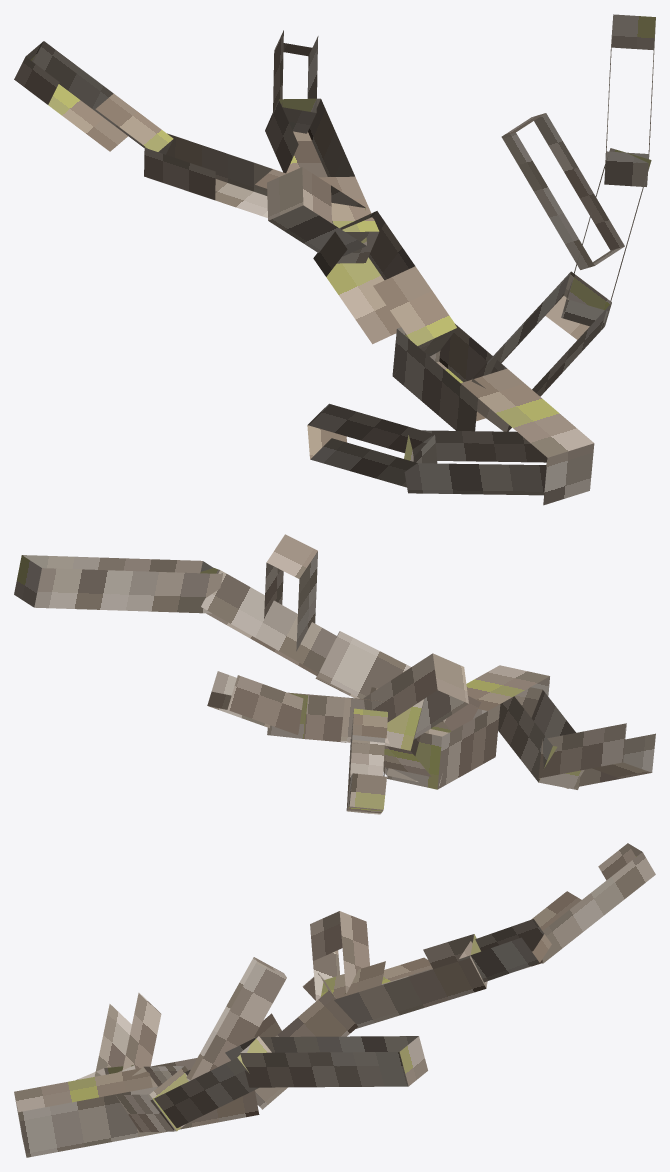
Rendered from ash_twig_branch_up.obj.
The picture shows the model from 3 angles, top to bottom: view 1: azimuth 30°, elevation 25°; view 2: azimuth 150°, elevation 25°; view 3: azimuth 270°, elevation 25°; orthographic projection. The views are drawn at different scales.
Parts seen in each view (by area): view 1: cube; view 2: cube; view 3: cube.
Part boxes in pixels (<box>): cube: <box>14,14,655,505</box>; cube: <box>14,534,655,814</box>; cube: <box>14,843,655,1157</box>.
Bounding box in the file's own units: 2.39 × 1.2 × 2.93.
